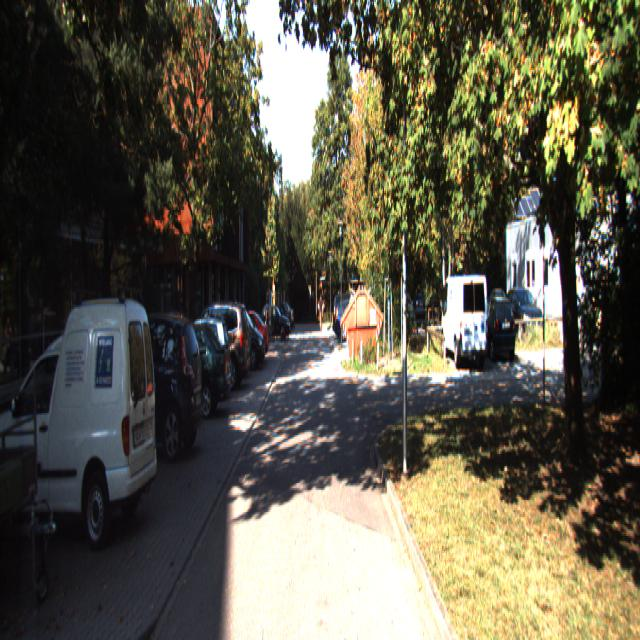Car: (0, 287, 161, 551), (81, 307, 207, 464), (143, 320, 233, 422), (174, 300, 251, 394), (166, 311, 233, 402), (439, 270, 490, 370), (472, 292, 518, 362), (334, 295, 370, 338)
